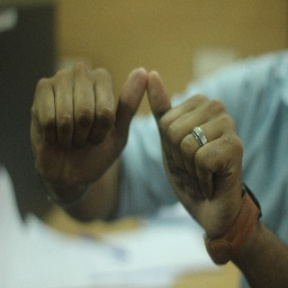A: (62, 59, 225, 202)
